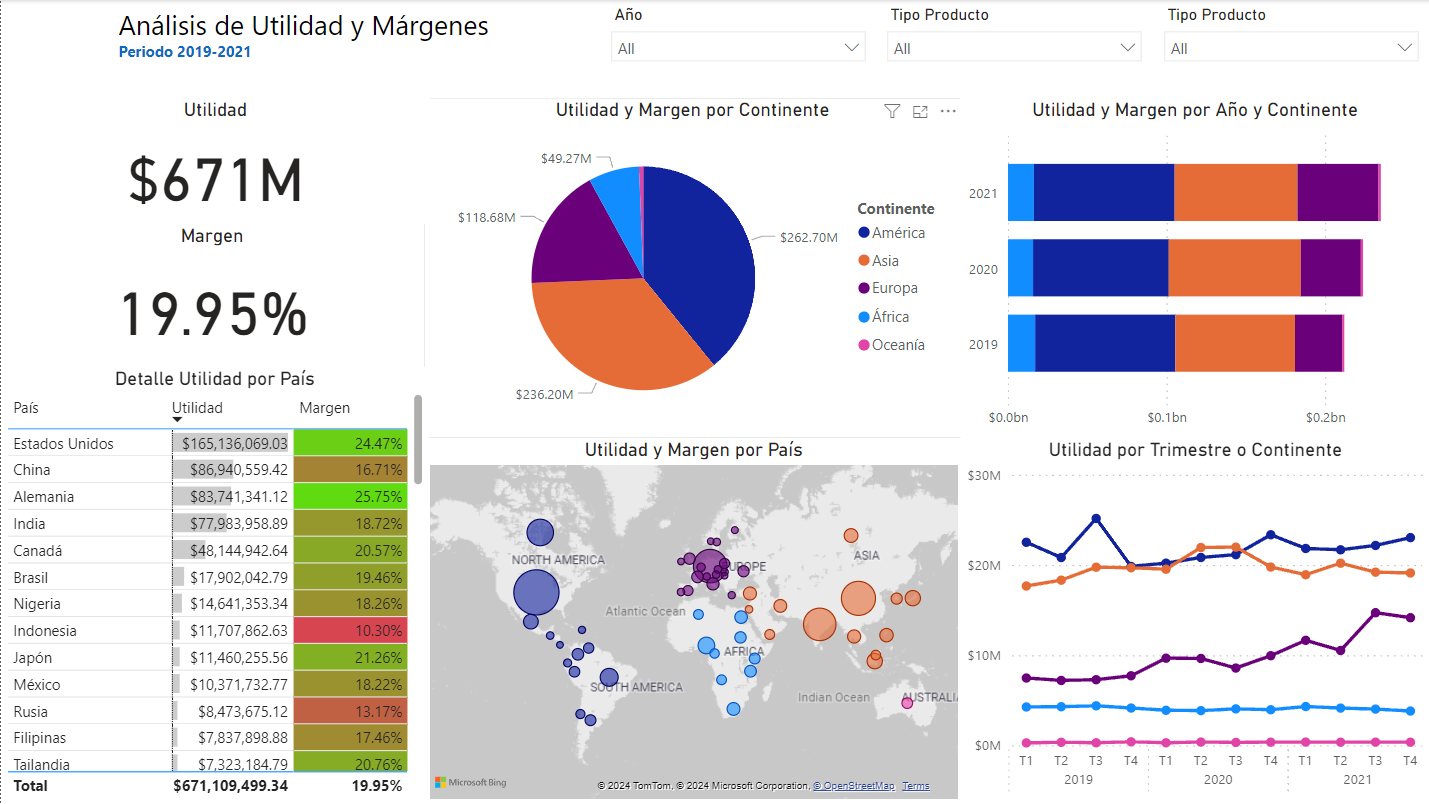

The page's visual inventory and layout, read from the dashboard file:
{"tool":"powerbi","page":{"name":"Page 2","canvas":[1280,720],"ordinal":1},"visuals":[{"type":"pieChart","title":"Utilidad y Margen por Continente","fields":{"Category":["Tabla Datos.Continente"],"Y":["Sum(Tabla Datos.Utilidad)"]},"box":[379,88,481,304],"z":0},{"type":"map","title":"Utilidad y Margen por País","fields":{"Series":["Tabla Datos.Continente"],"Category":["Tabla Datos.País"],"Size":["Sum(Tabla Datos.Utilidad)"]},"box":[379,392,483,328],"z":1000},{"type":"lineChart","title":"Utilidad por Trimestre o Continente","fields":{"Category":["Tabla Datos.Año","Tabla Datos.Trimestre"],"Y":["Sum(Tabla Datos.Utilidad)"],"Series":["Tabla Datos.Continente"]},"box":[860,391.8,420,328.2],"z":2000},{"type":"barChart","title":"Utilidad y Margen por Año y Continente","fields":{"Category":["Tabla Datos.Año"],"Y":["Sum(Tabla Datos.Utilidad)"],"Series":["Tabla Datos.Continente"]},"box":[859,88,421,304],"z":3000},{"type":"card","title":"Utilidad","fields":{"Values":["Sum(Tabla Datos.Utilidad)"]},"box":[0,88,384,113],"z":4000},{"type":"card","title":"Margen","fields":{"Values":["Tabla Datos.margen utilidad"]},"box":[0,201,378,128],"z":5000},{"type":"tableEx","title":"Detalle Utilidad por País","fields":{"Values":["Tabla Datos.País","Sum(Tabla Datos.Utilidad)","Tabla Datos.margen utilidad"]},"box":[0,329,383,391],"z":6000},{"type":"slicer","fields":{"Values":["Tabla Datos.Año"]},"box":[536,0,248,71],"z":7000},{"type":"slicer","fields":{"Values":["Tabla Datos.Tipo Producto"]},"box":[784,0,248,71],"z":8000},{"type":"slicer","fields":{"Values":["Tabla Datos.Tipo Producto"]},"box":[1032,0,248,71],"z":9000},{"type":"textbox","box":[100,0,436,88],"z":10000}]}

Visuals, with their boxes in screenshot pixels (x1, y1, x2, y2), scaled from the page's 1280x720 canvas onto the 1429x804 screenshot:
"Utilidad y Margen por Continente" pieChart: box=[423, 98, 960, 438]
"Utilidad y Margen por País" map: box=[423, 438, 962, 803]
"Utilidad por Trimestre o Continente" lineChart: box=[960, 438, 1428, 803]
"Utilidad y Margen por Año y Continente" barChart: box=[959, 98, 1428, 438]
"Utilidad" card: box=[0, 98, 429, 224]
"Margen" card: box=[0, 224, 422, 367]
"Detalle Utilidad por País" tableEx: box=[0, 367, 428, 803]
slicer - Tabla Datos.Año: box=[598, 0, 875, 79]
slicer - Tabla Datos.Tipo Producto: box=[875, 0, 1152, 79]
slicer - Tabla Datos.Tipo Producto: box=[1152, 0, 1428, 79]
textbox: box=[112, 0, 598, 98]
